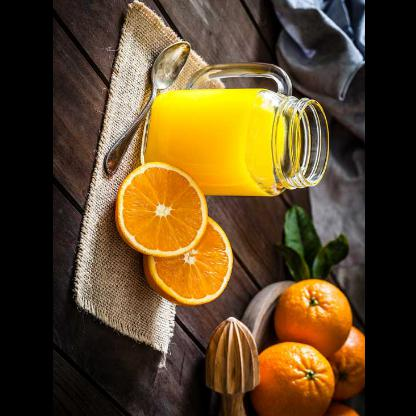orange juice: (142, 86, 288, 196)
